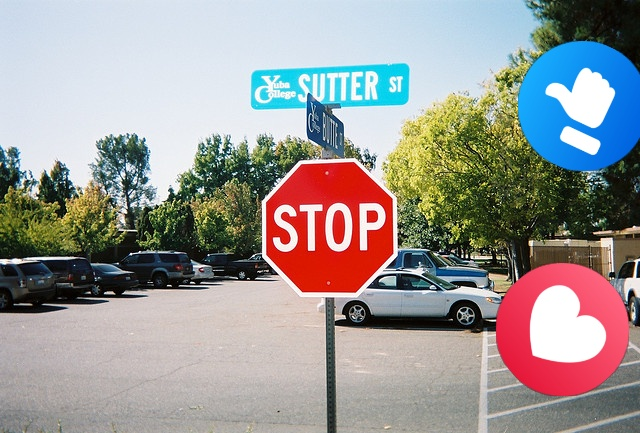like: (518, 41, 640, 171)
love: (496, 263, 629, 396)
